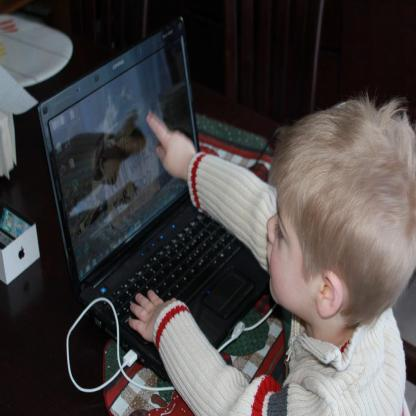board: (39, 15, 273, 383)
